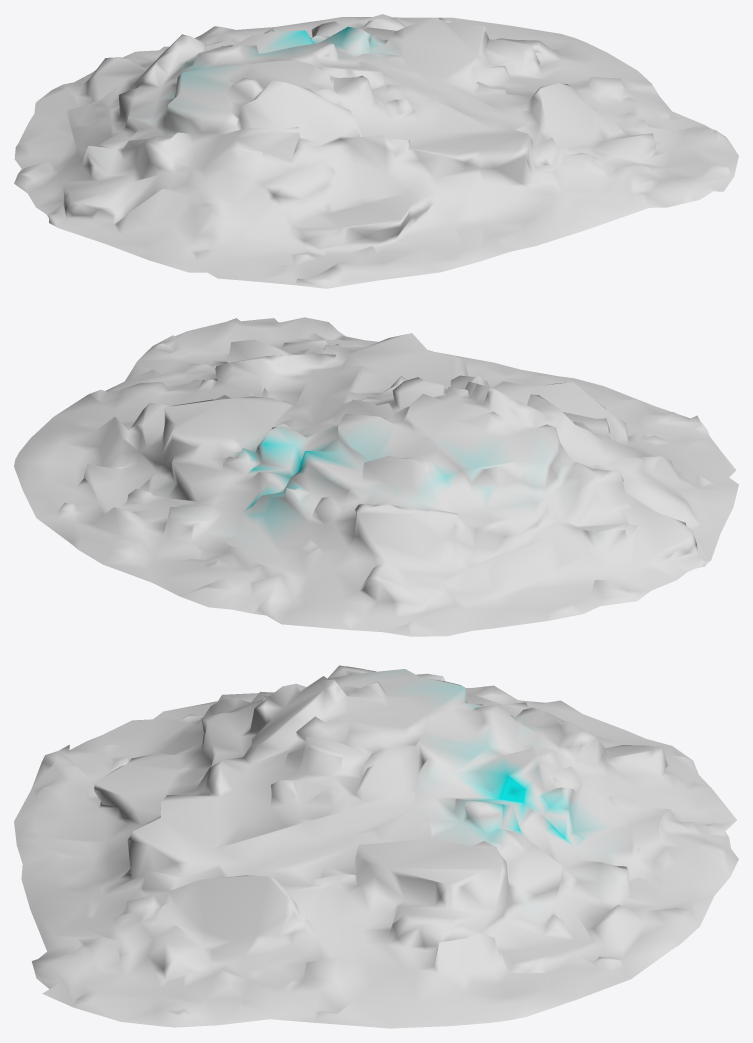
File: Stage01_Prop_00.fbx
3 renders of one model, top to bottom at view 1: azimuth 30°, elevation 25°; view 2: azimuth 150°, elevation 25°; view 3: azimuth 270°, elevation 25°, orthographic. The views are drawn at different scales.
Parts seen in each view (by area): view 1: 024_N_SM.001; view 2: 024_N_SM.001; view 3: 024_N_SM.001.
Boxes of the visible parts, x1,y1,x2,y2 form: 024_N_SM.001: (14,14,738,288); 024_N_SM.001: (14,317,738,636); 024_N_SM.001: (14,665,738,1028).
Size of the model in its own units: 1518 by 250 by 1333.
